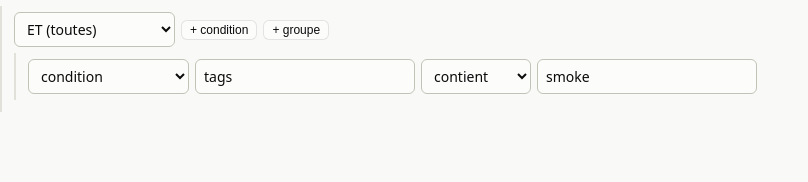
Test: RuleBuilder — group nodes (all/any) › adds a condition child
Click the button "+ condition" at (219, 30), box [181, 20, 257, 40]
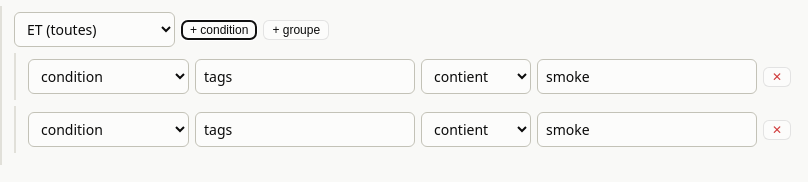
Check: the number of fields with placeholder "propriété (ex. tags, team, criticality)" is 2, box [195, 59, 415, 94]; [195, 112, 415, 147]
